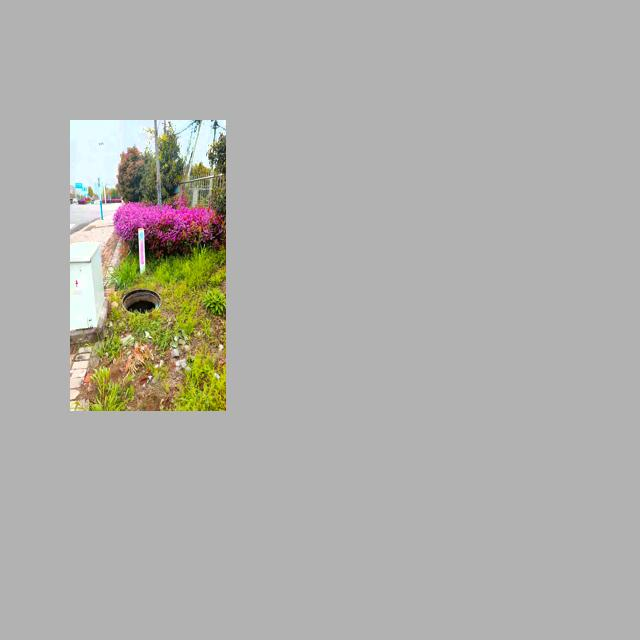lose: (119, 282, 165, 320)
